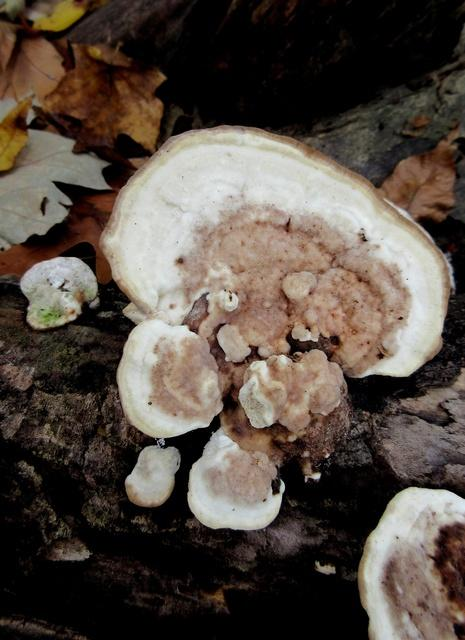poisonous_mushroom: (97, 122, 454, 531)
